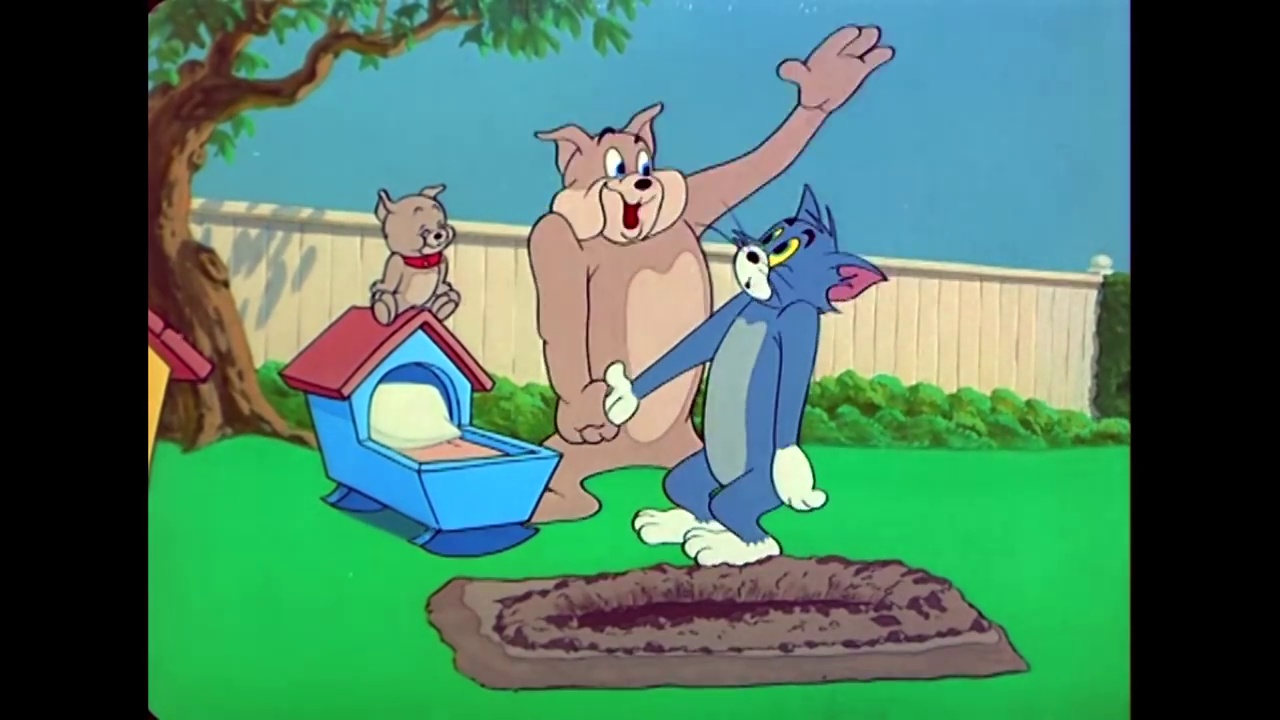spike: (528, 97, 698, 255)
tom: (728, 183, 894, 324)
